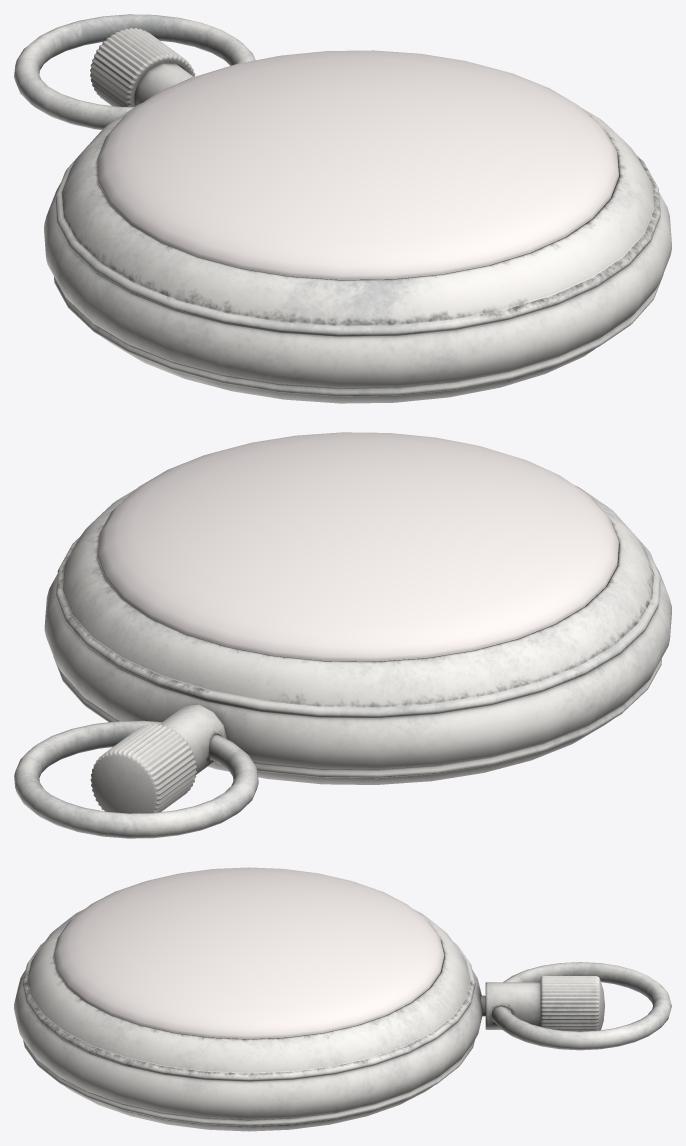
Rendered from stopwatch.glb.
The picture shows the model from 3 angles, top to bottom: view 1: azimuth 30°, elevation 25°; view 2: azimuth 150°, elevation 25°; view 3: azimuth 270°, elevation 25°; orthographic projection. The views are drawn at different scales.
Visible parts, largest first — view 1: Object_4, Object_3; view 2: Object_4, Object_3; view 3: Object_4, Object_3.
Part boxes in pixels (box(x1,y1,x2,y2)): Object_4: box(14, 14, 671, 403); Object_3: box(97, 50, 618, 279); Object_4: box(14, 485, 671, 838); Object_3: box(97, 432, 618, 661); Object_4: box(14, 908, 671, 1131); Object_3: box(53, 867, 444, 1039).
Bounding box in the file's own units: 49 × 15.98 × 68.6.
Materials: 3 (3 with a texture image).
